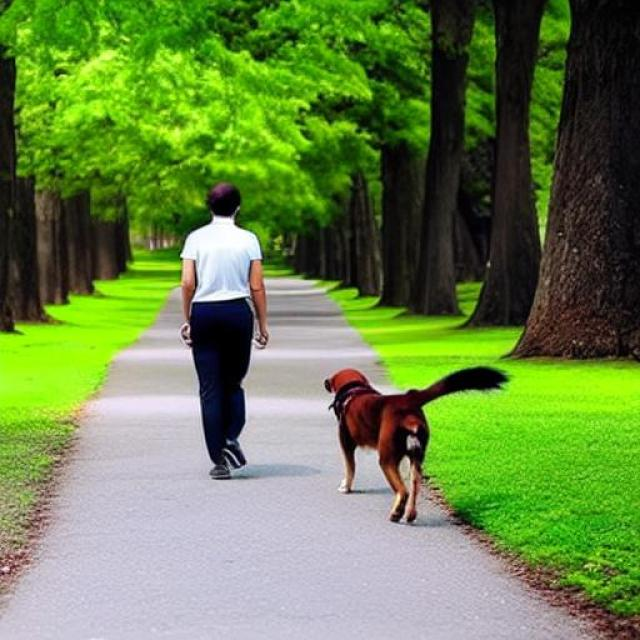Unleashed_Dog: (192, 301, 510, 525)
